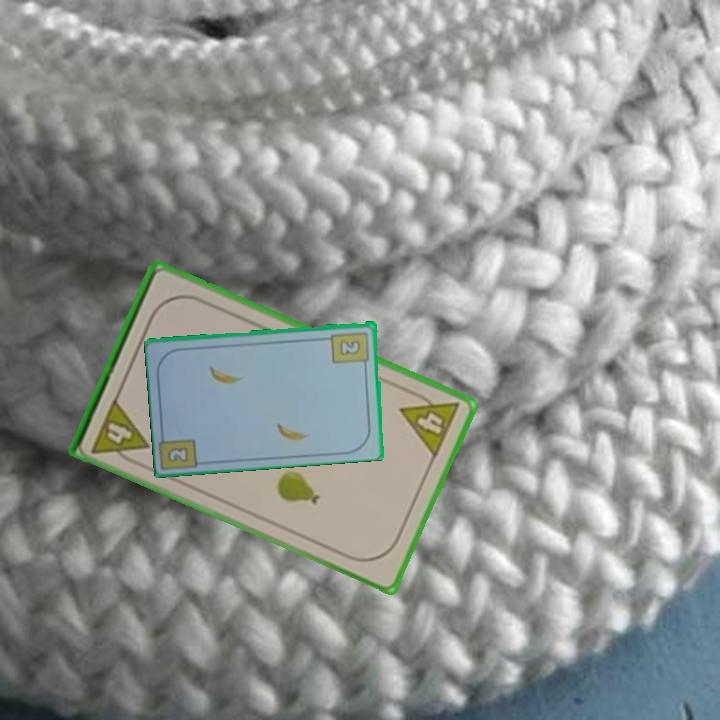2b: (328, 328, 372, 370), (164, 443, 192, 465)
4p: (396, 385, 463, 461), (87, 394, 152, 469)
